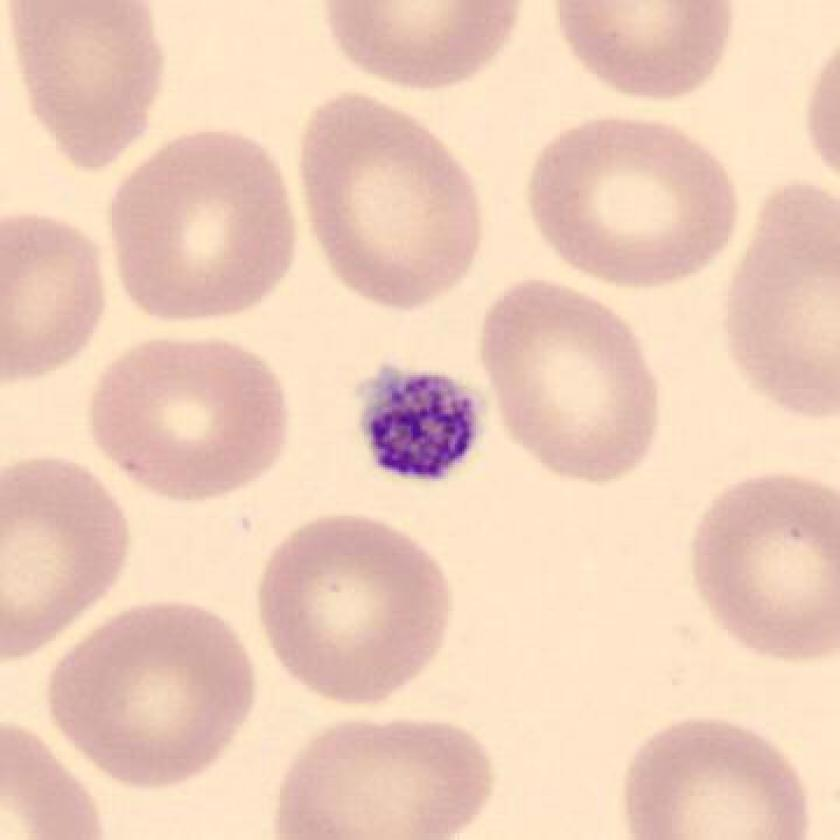platelets: (344, 346, 498, 496)
